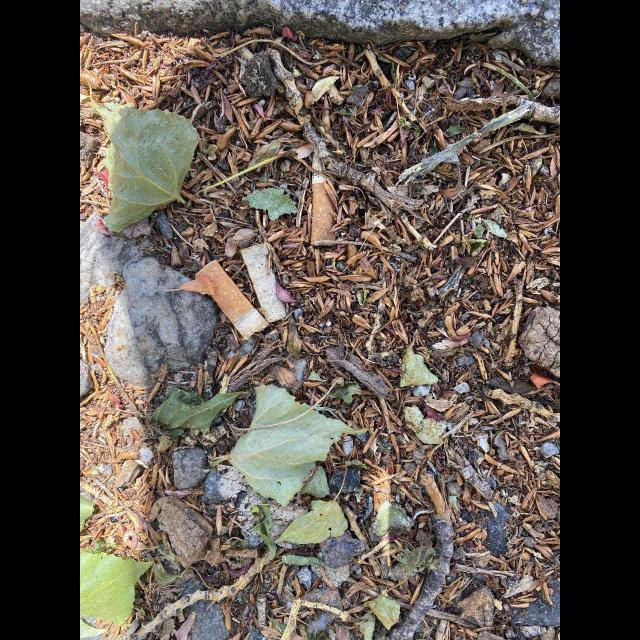cigarette: (194, 258, 270, 342), (240, 240, 288, 324), (311, 149, 336, 247)
